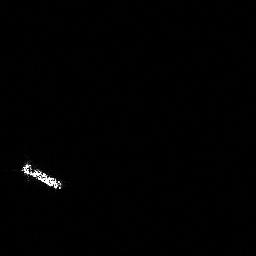ship: (18, 159, 65, 192)
